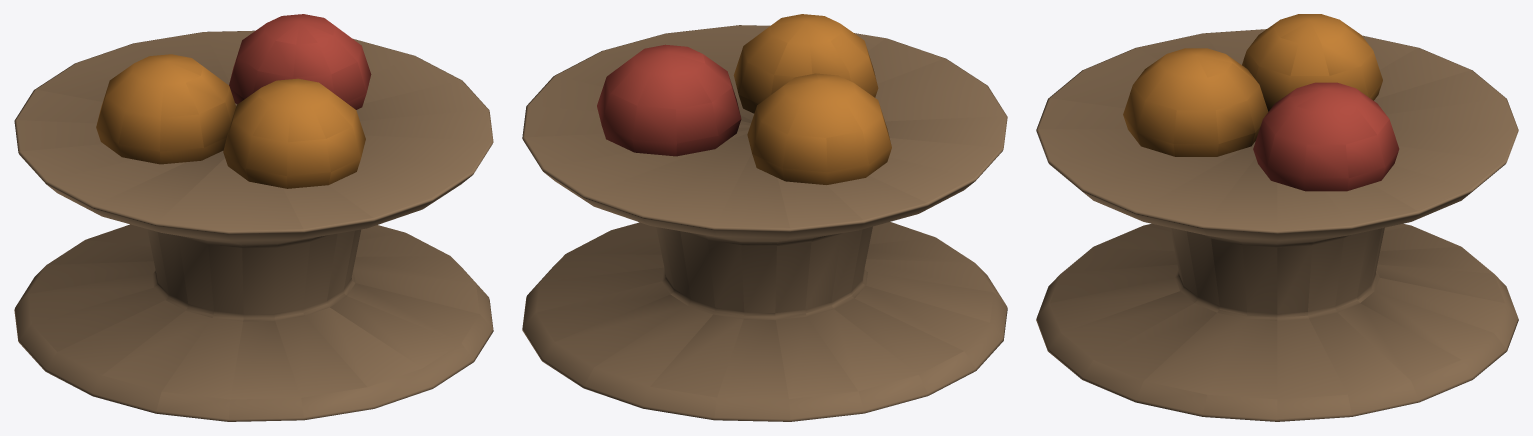
The model's file is fruit_bowl.glb.
3 renders of one model, left to right at view 1: azimuth 30°, elevation 25°; view 2: azimuth 150°, elevation 25°; view 3: azimuth 270°, elevation 25°, orthographic.
Visible parts, largest first — view 1: fruit_bowl; view 2: fruit_bowl; view 3: fruit_bowl.
Part boxes in pixels (<box>): fruit_bowl: <box>14,14,493,421</box>; fruit_bowl: <box>522,14,1007,421</box>; fruit_bowl: <box>1036,14,1518,421</box>.
Bounding box in the file's own units: 0.2971 × 0.1805 × 0.2971.
